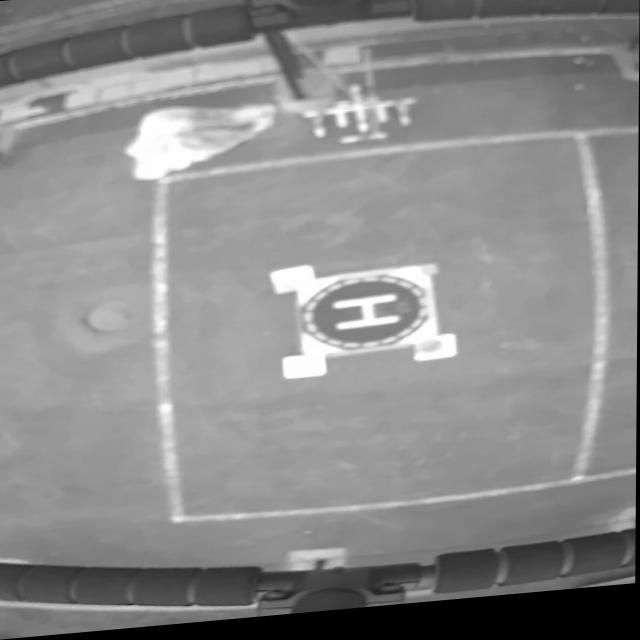Helipad: (333, 300, 402, 337)
